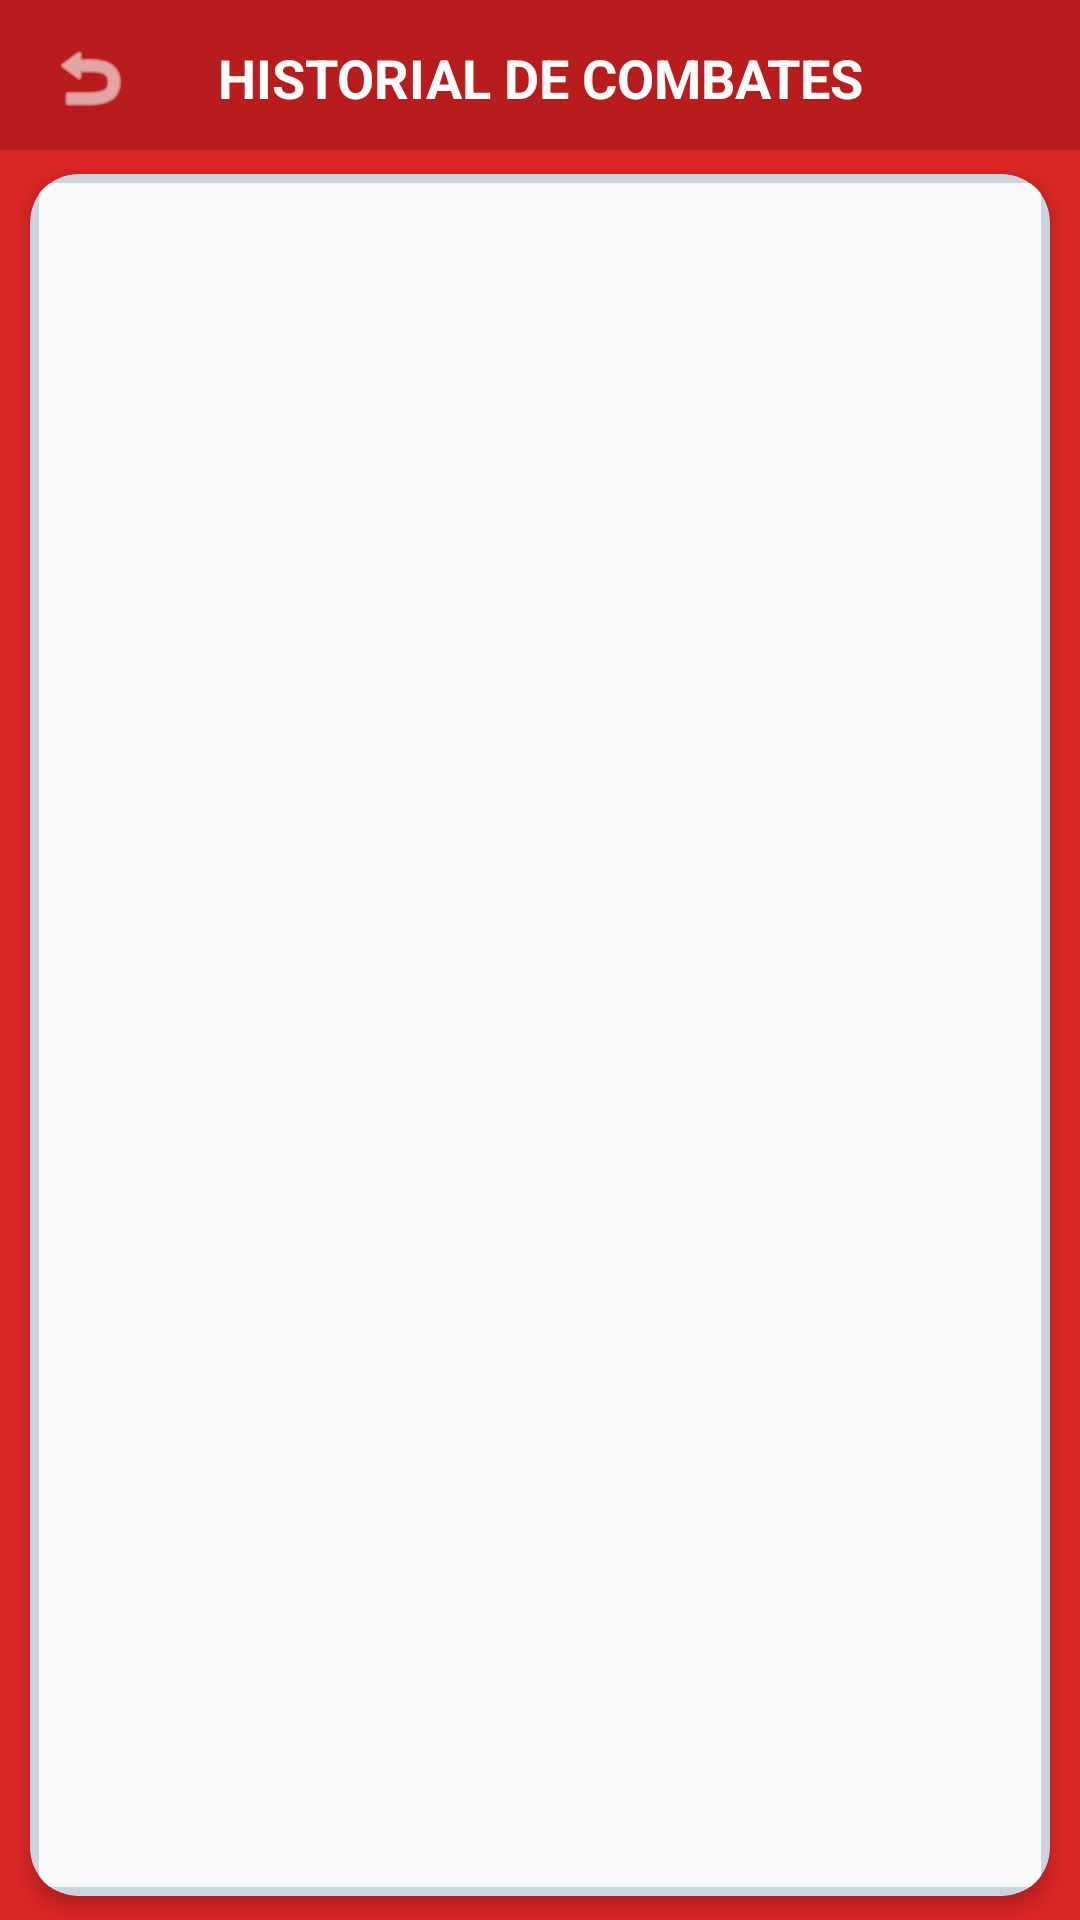

Where icons sit on this 1080*1920 app screen, as {"x1": x1, "y1": y1, "x2": x2, "y2": y2}:
Regresar: {"x1": 61, "y1": 51, "x2": 121, "y2": 106}
